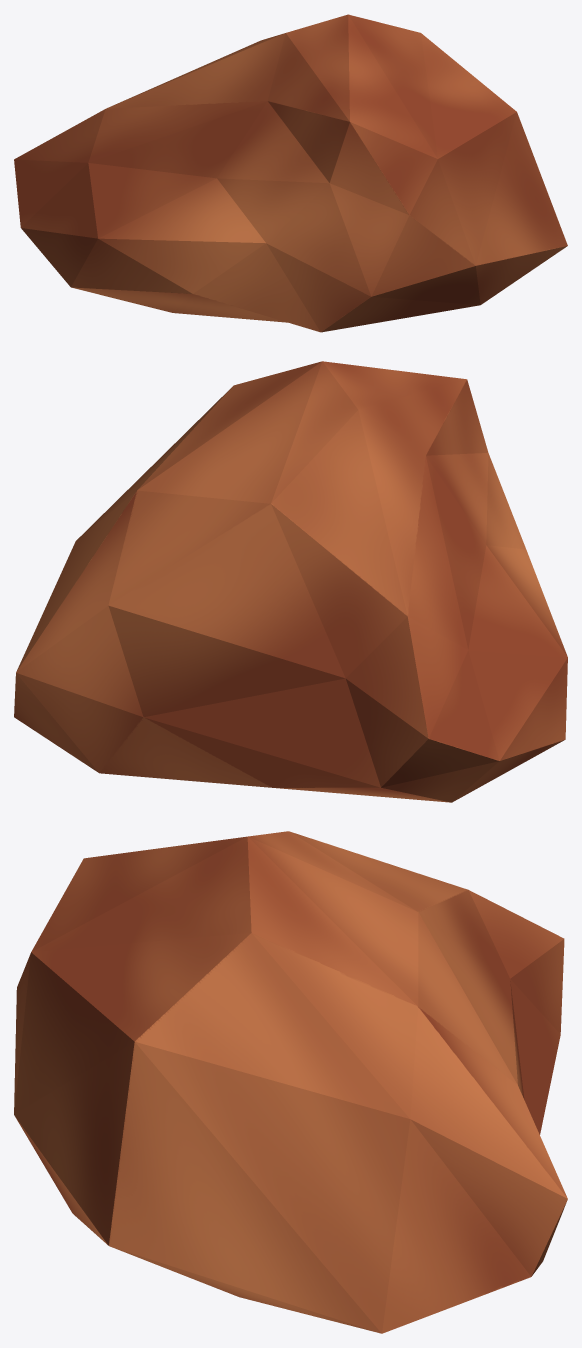
The model's file is Rock2.fbx.
The picture shows the model from 3 angles, top to bottom: view 1: azimuth 30°, elevation 25°; view 2: azimuth 150°, elevation 25°; view 3: azimuth 270°, elevation 25°; orthographic projection. The views are drawn at different scales.
Parts seen in each view (by area): view 1: Rock2; view 2: Rock2; view 3: Rock2.
Boxes of the visible parts, bbox=[...] form: Rock2: bbox=[14, 14, 567, 332]; Rock2: bbox=[14, 361, 567, 802]; Rock2: bbox=[14, 831, 567, 1333].
Bounding box in the file's own units: 360 × 232 × 297.
